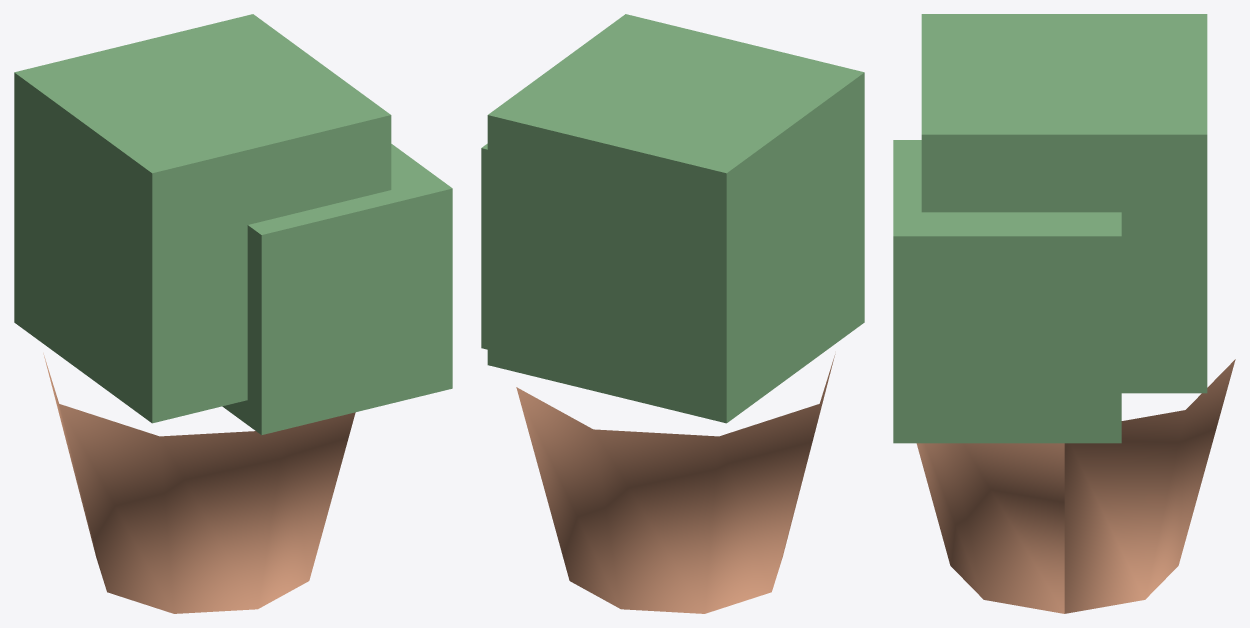
File: plant_small.glb
The picture shows the model from 3 angles, left to right: view 1: azimuth 30°, elevation 25°; view 2: azimuth 150°, elevation 25°; view 3: azimuth 270°, elevation 25°; orthographic projection. The views are drawn at different scales.
Parts seen in each view (by area): view 1: leaves, pot; view 2: leaves, pot; view 3: leaves, pot.
Boxes of the visible parts, <box> form: leaves: <box>14,14,452,435</box>; pot: <box>43,353,355,613</box>; leaves: <box>481,14,864,423</box>; pot: <box>516,354,835,613</box>; leaves: <box>893,14,1207,443</box>; pot: <box>916,359,1235,613</box>.
Bounding box in the file's own units: 0.13 × 0.19 × 0.12.
